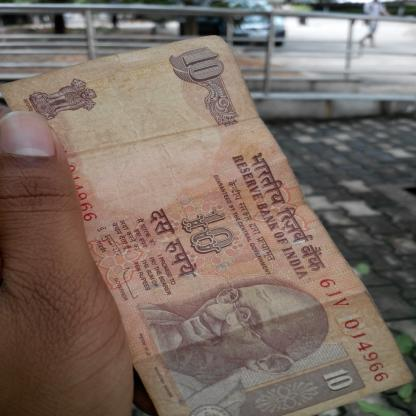Old10Front: (0, 34, 415, 415)
